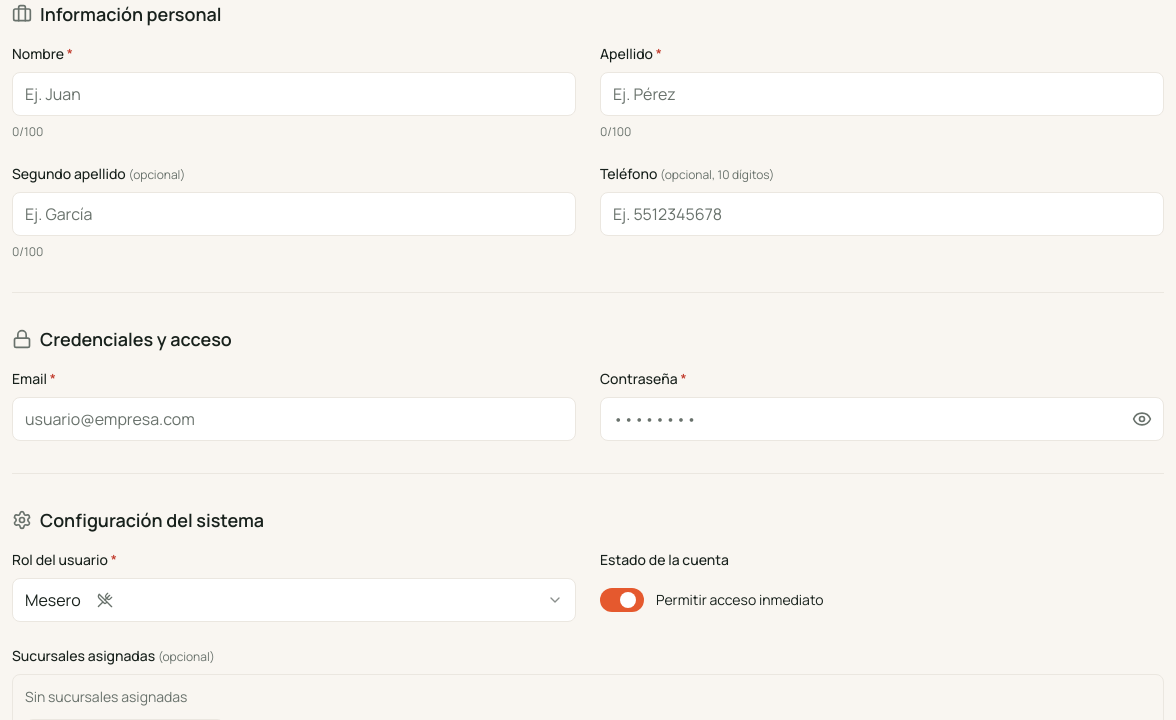
Test case: UserForm › validación: creación › muestra error cuando email está vacío
Type "Juan" into the field labelled "Nombre *".
click(294, 94); type("Juan")  # box [12,72,576,116]
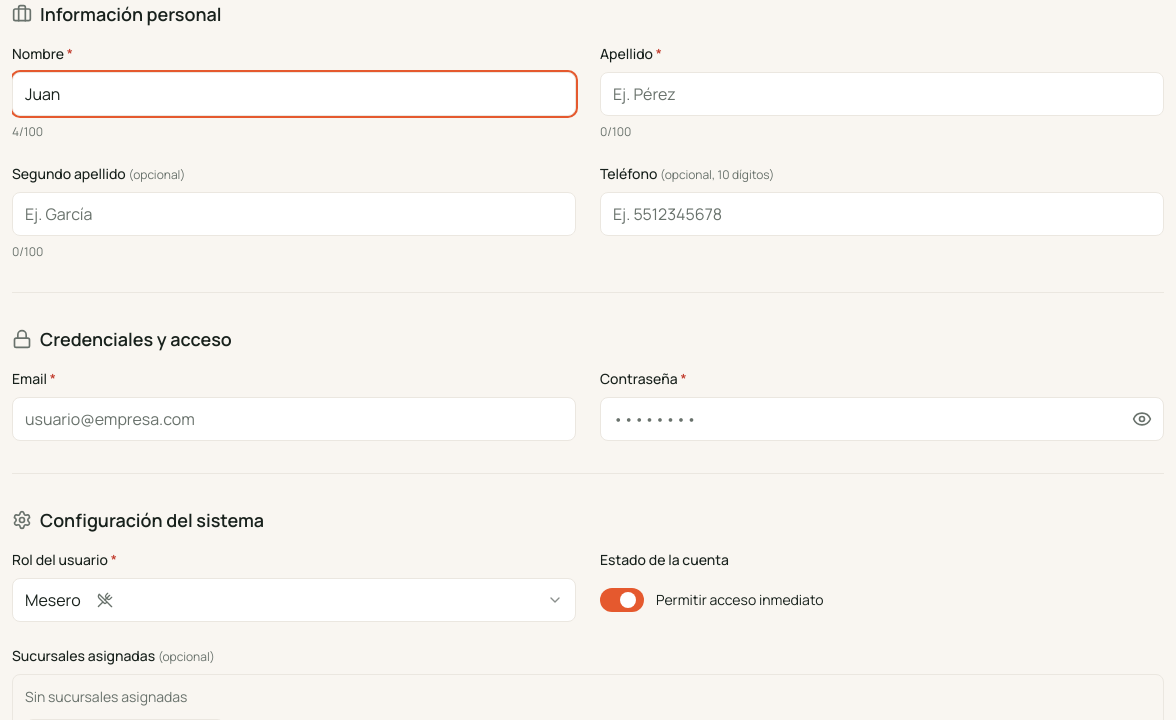
Type "Pérez" into the field labelled "Apellido *".
click(882, 94); type("Pérez")  # box [600,72,1164,116]
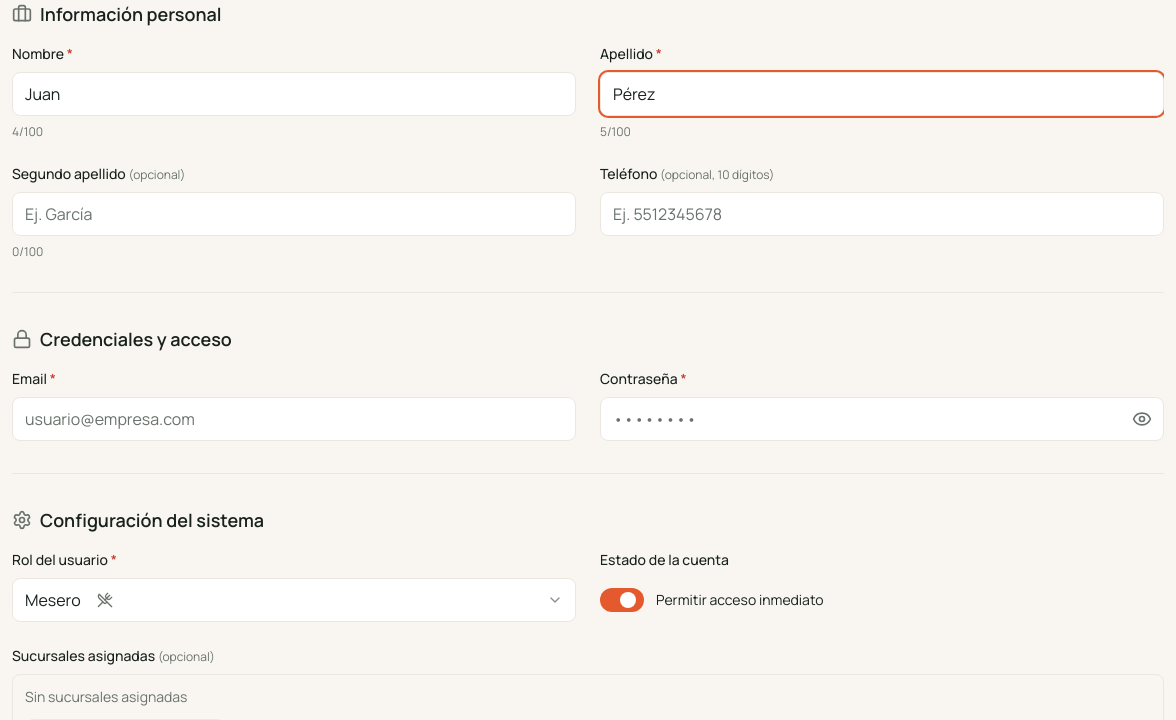
Clear the field labelled "Email *" at [294, 419], box [12,397,576,441]
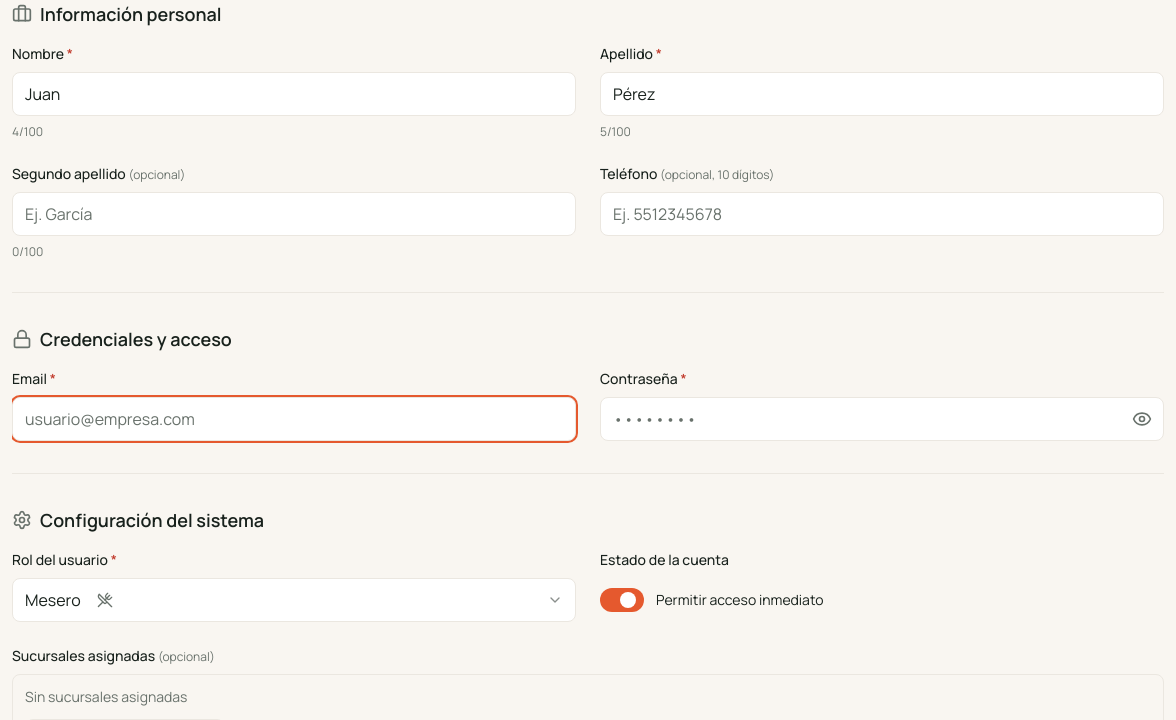
Type "Password123!" into the password field labelled "Contraseña *".
click(882, 419); type("Password123!")  # box [600,397,1164,441]
(page scrolled)
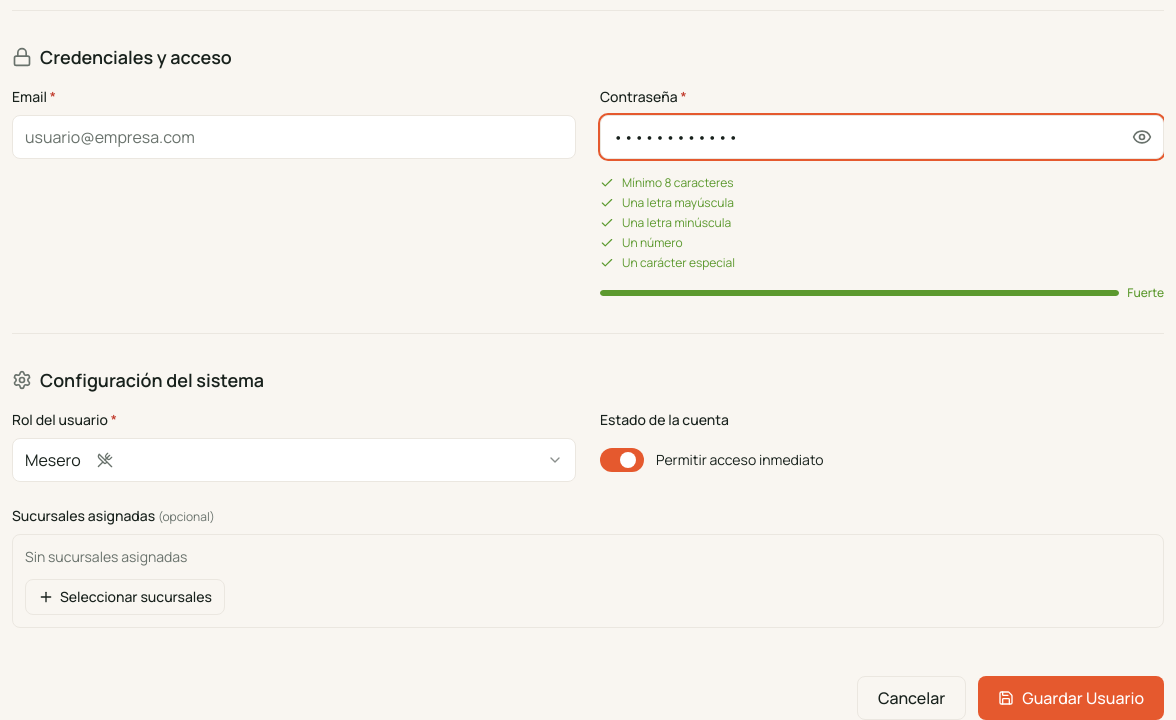
Click the button "Guardar Usuario".
click(1071, 698)  # box [978,676,1164,719]
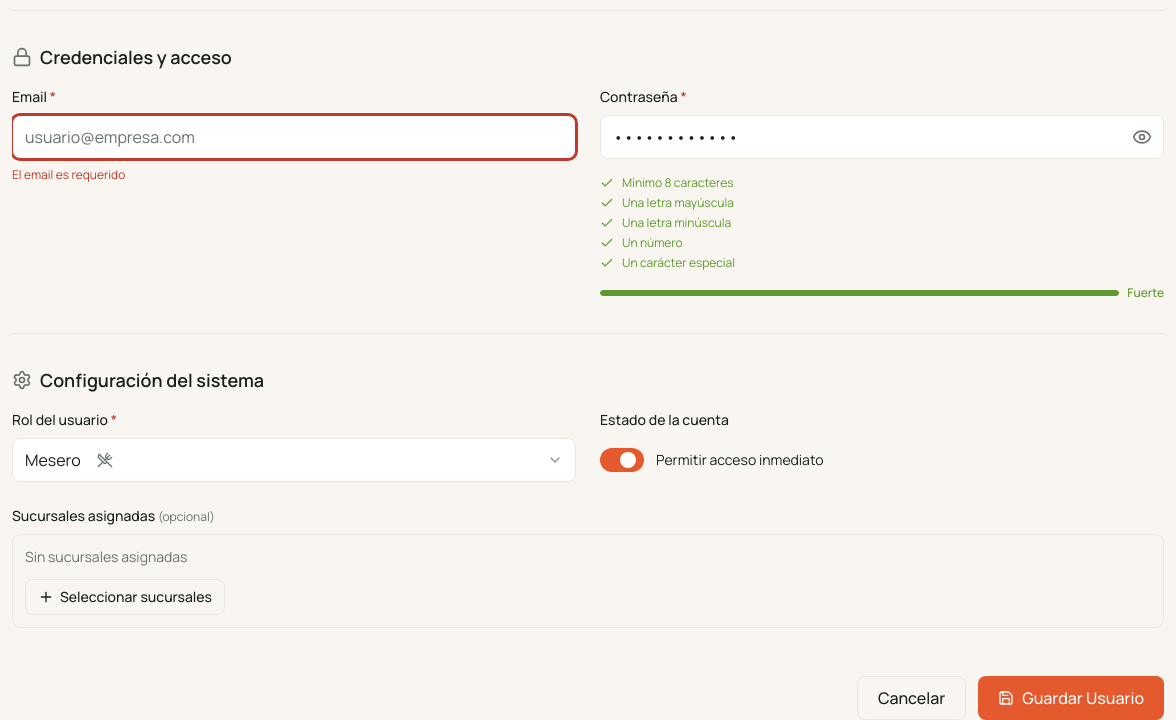
Now the text "El email es requerido" is shown, box [12,166,125,183]
